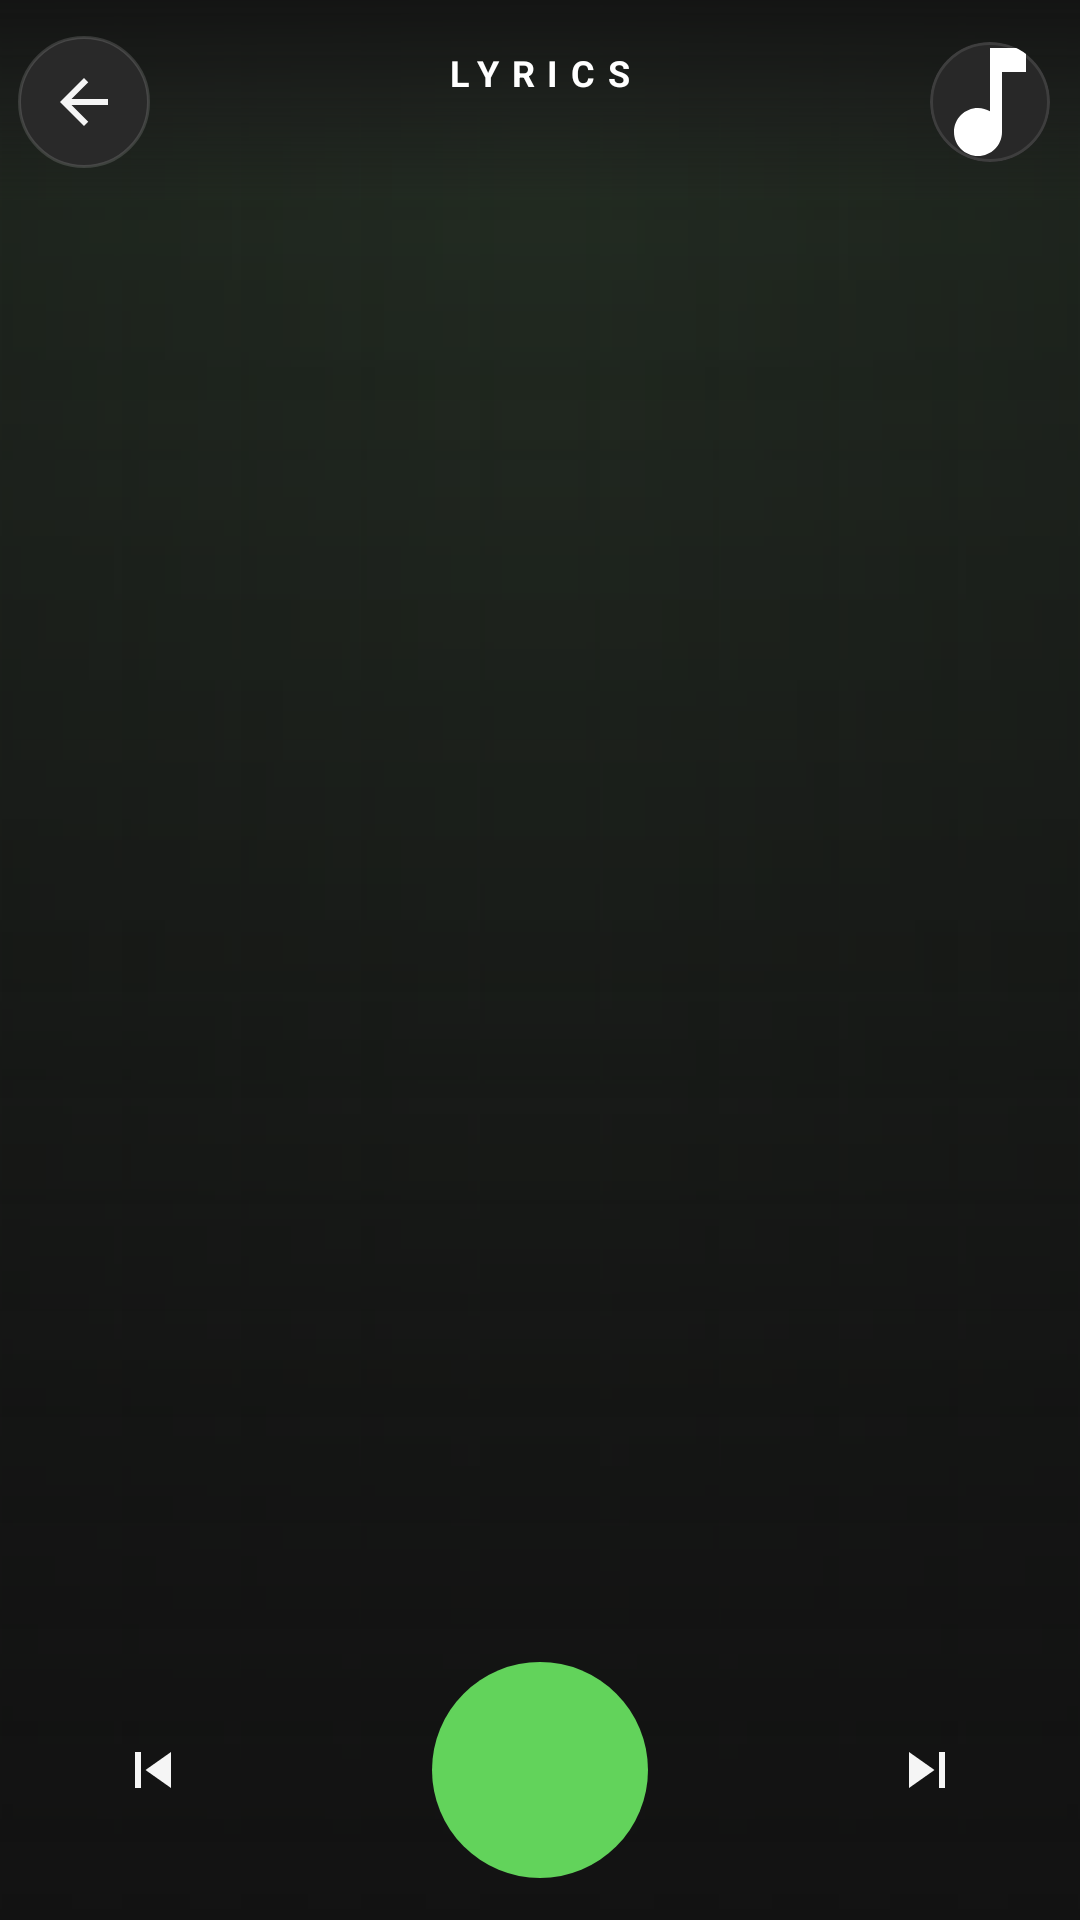

Named icons in this screenshot (1080x1920) and their centers, [x,y]:
Back: [84,102]
Next: [927,1770]
Previous: [153,1770]
